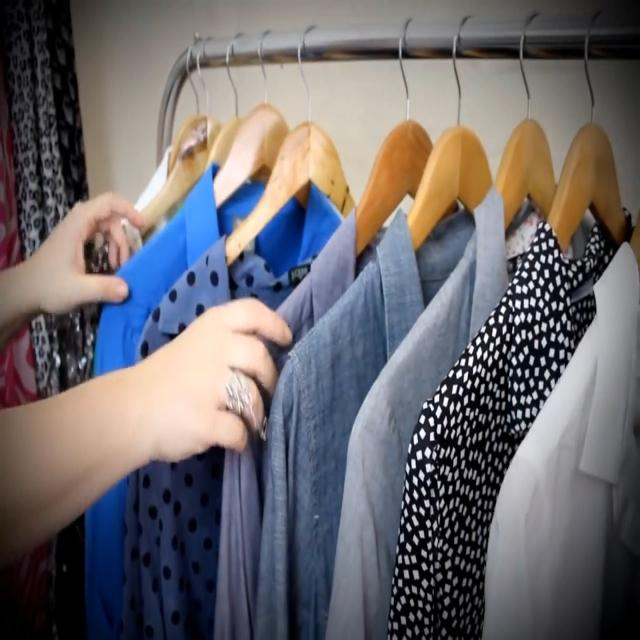Shirt: (326, 182, 594, 640), (86, 162, 342, 640), (386, 207, 636, 640), (254, 202, 476, 640), (118, 232, 328, 640), (215, 201, 388, 640), (481, 237, 640, 639)
